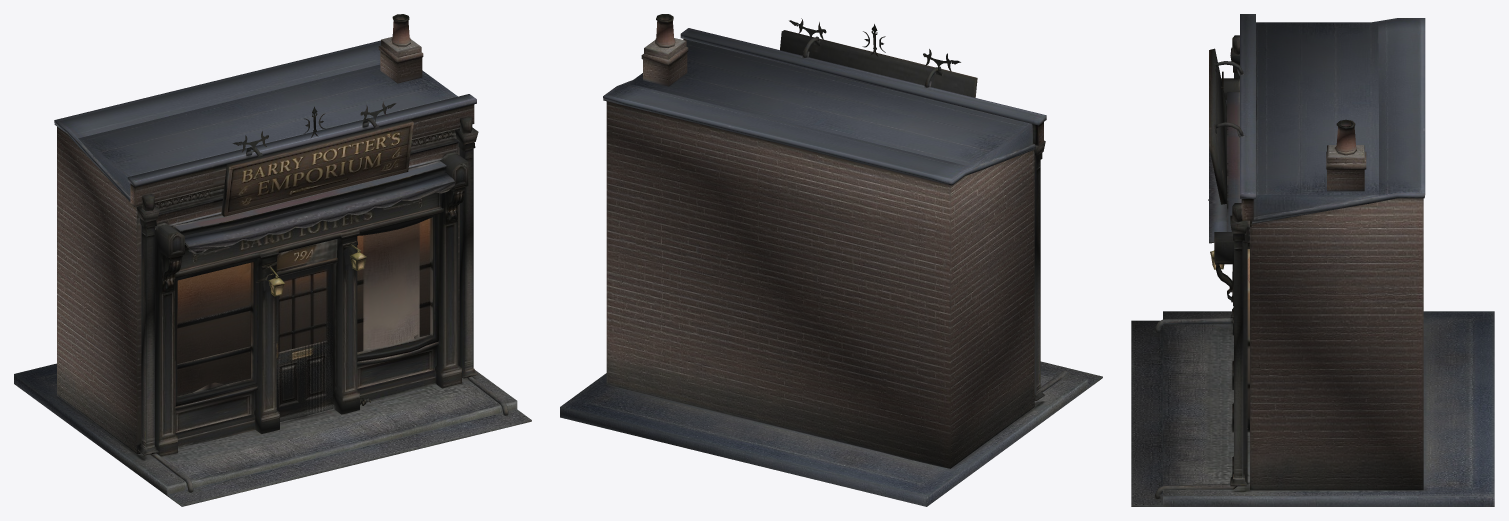
File: barry+potters+emporium+3d+model.glb
The picture shows the model from 3 angles, left to right: view 1: azimuth 30°, elevation 25°; view 2: azimuth 150°, elevation 25°; view 3: azimuth 270°, elevation 25°; orthographic projection. The views are drawn at different scales.
Parts seen in each view (by area): view 1: tripo_node_5bf52bc5-1cbf-402e-acb0-bb2182206ba2; view 2: tripo_node_5bf52bc5-1cbf-402e-acb0-bb2182206ba2; view 3: tripo_node_5bf52bc5-1cbf-402e-acb0-bb2182206ba2.
Part boxes in pixels (<box>): tripo_node_5bf52bc5-1cbf-402e-acb0-bb2182206ba2: <box>14,14,531,506</box>; tripo_node_5bf52bc5-1cbf-402e-acb0-bb2182206ba2: <box>560,14,1102,506</box>; tripo_node_5bf52bc5-1cbf-402e-acb0-bb2182206ba2: <box>1131,14,1494,506</box>.
Size of the model in its own units: 0.998 by 0.9238 by 0.8301.
1 material, 1 textured.
